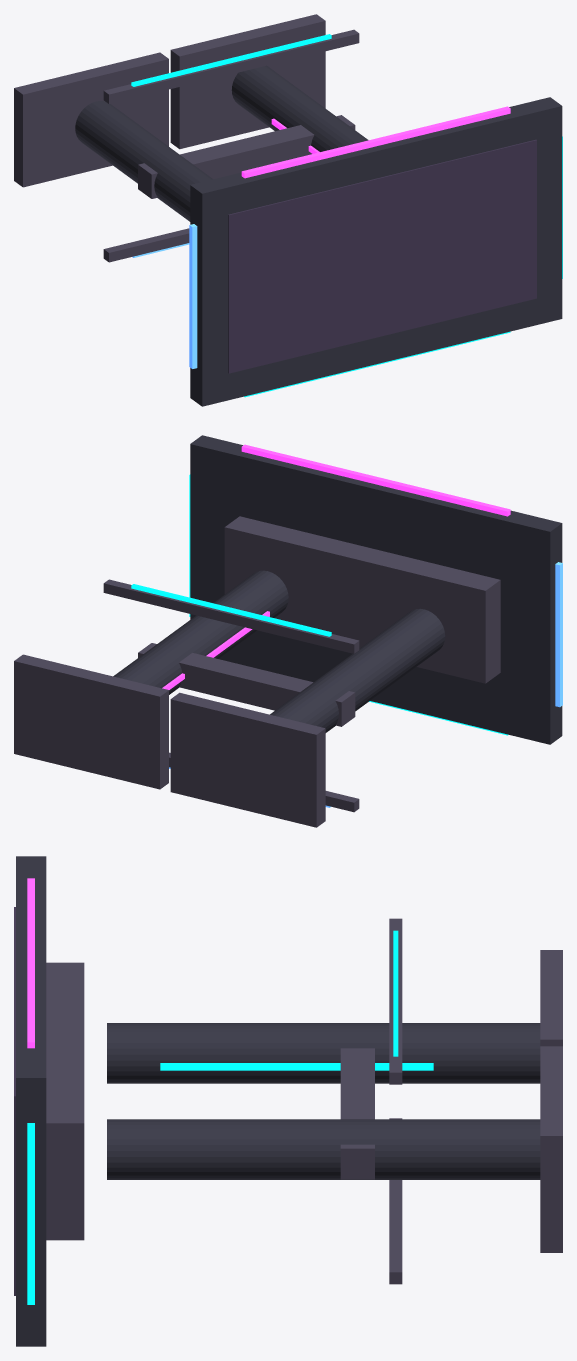
The model's file is high_bar_table.glb.
The picture shows the model from 3 angles, top to bottom: view 1: azimuth 30°, elevation 25°; view 2: azimuth 150°, elevation 25°; view 3: azimuth 270°, elevation 25°; orthographic projection. The views are drawn at different scales.
Visible parts, largest first — view 1: table_top_inset, table_top_shell, left_base_plinth, right_base_plinth, pedestal_left, pedestal_right, lower_stretcher, rear_footrest_rail, rear_top_trim, front_footrest_rail, left_top_trim, rear_footrest_trim; view 2: table_top_shell, under_top_frame, left_base_plinth, right_base_plinth, pedestal_left, pedestal_right, lower_stretcher, rear_footrest_rail, rear_top_trim, rear_footrest_trim, left_top_trim, front_footrest_rail (+1 smaller); view 3: pedestal_right, pedestal_left, table_top_shell, under_top_frame, right_base_plinth, lower_stretcher, left_base_plinth, rear_footrest_rail, left_pedestal_trim, front_footrest_rail, right_top_trim, rear_top_trim (+2 smaller).
Boxes of the visible parts, x1=… form: table_top_inset: x1=228, y1=139, x2=536, y2=373; table_top_shell: x1=190, y1=97, x2=562, y2=406; left_base_plinth: x1=14, y1=52, x2=168, y2=187; right_base_plinth: x1=170, y1=14, x2=325, y2=149; pedestal_left: x1=75, y1=101, x2=212, y2=221; pedestal_right: x1=231, y1=65, x2=368, y2=151; lower_stretcher: x1=138, y1=115, x2=355, y2=198; rear_footrest_rail: x1=103, y1=29, x2=359, y2=103; rear_top_trim: x1=241, y1=106, x2=510, y2=178; front_footrest_rail: x1=103, y1=228, x2=189, y2=262; left_top_trim: x1=189, y1=224, x2=197, y2=368; rear_footrest_trim: x1=131, y1=34, x2=331, y2=86; table_top_shell: x1=190, y1=435, x2=562, y2=744; under_top_frame: x1=224, y1=516, x2=500, y2=683; left_base_plinth: x1=170, y1=692, x2=325, y2=827; right_base_plinth: x1=14, y1=654, x2=168, y2=789; pedestal_left: x1=270, y1=608, x2=445, y2=732; pedestal_right: x1=113, y1=570, x2=288, y2=694; lower_stretcher: x1=138, y1=643, x2=355, y2=726; rear_footrest_rail: x1=103, y1=579, x2=359, y2=653; rear_top_trim: x1=241, y1=444, x2=510, y2=516; rear_footrest_trim: x1=131, y1=584, x2=331, y2=636; left_top_trim: x1=555, y1=562, x2=562, y2=707; front_footrest_rail: x1=169, y1=752, x2=359, y2=812; pedestal_right: x1=107, y1=1119, x2=540, y2=1179; pedestal_left: x1=107, y1=1023, x2=540, y2=1083; table_top_shell: x1=16, y1=856, x2=46, y2=1346; under_top_frame: x1=46, y1=962, x2=84, y2=1240; right_base_plinth: x1=540, y1=1046, x2=562, y2=1252; lower_stretcher: x1=340, y1=1048, x2=374, y2=1179; left_base_plinth: x1=540, y1=950, x2=562, y2=1046; rear_footrest_rail: x1=389, y1=918, x2=402, y2=1084; left_pedestal_trim: x1=160, y1=1063, x2=433, y2=1070; front_footrest_rail: x1=389, y1=1118, x2=402, y2=1284; right_top_trim: x1=27, y1=1123, x2=34, y2=1304; rear_top_trim: x1=27, y1=878, x2=34, y2=1048.
Size of the model in its own units: 1.42 by 0.82 by 1.45.
